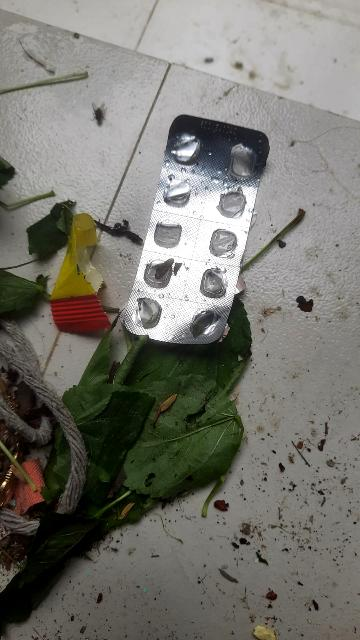medicine: (117, 109, 281, 362)
